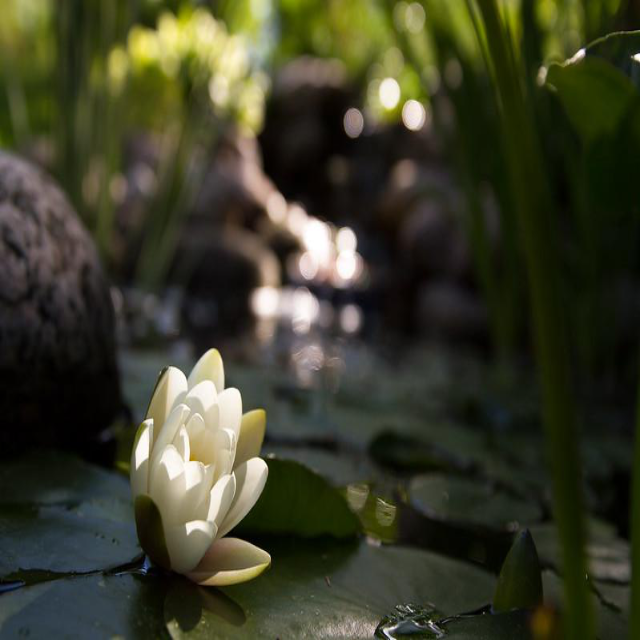water_lily: (124, 346, 274, 595)
